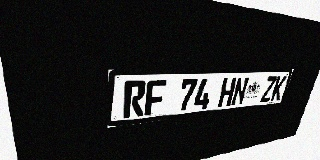4: (193, 78, 213, 110)
7: (177, 79, 198, 112)
F: (144, 80, 167, 116)
H: (217, 78, 237, 107)
K: (270, 76, 287, 101)
N: (230, 77, 249, 106)
R: (123, 80, 146, 118)
Z: (260, 76, 277, 102)
